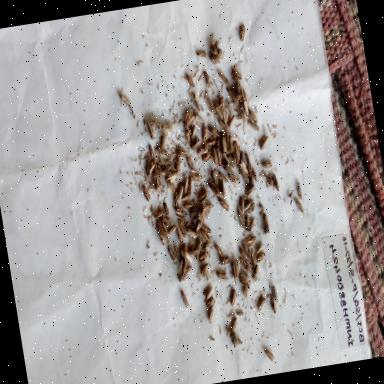pbw: (290, 192, 306, 219), (164, 240, 178, 268), (116, 89, 133, 112), (227, 330, 245, 351), (154, 216, 169, 241), (259, 342, 276, 364), (200, 196, 216, 219), (152, 221, 166, 246), (196, 216, 213, 236), (144, 117, 157, 143), (268, 172, 282, 196), (214, 116, 230, 137), (194, 226, 210, 246), (182, 70, 198, 90), (216, 66, 230, 88), (254, 294, 268, 316), (237, 20, 251, 42), (233, 104, 247, 126), (178, 286, 192, 308), (294, 176, 306, 201), (189, 166, 204, 186), (139, 180, 152, 203), (162, 197, 174, 221), (215, 196, 231, 214), (226, 170, 242, 188), (231, 144, 244, 166), (187, 122, 200, 144), (147, 112, 161, 132), (158, 130, 172, 150), (192, 214, 206, 234), (270, 281, 282, 304), (204, 94, 216, 116), (200, 67, 212, 89), (234, 208, 246, 230), (182, 104, 194, 126), (190, 90, 202, 112), (260, 209, 270, 235), (183, 152, 196, 172), (228, 254, 238, 280), (145, 158, 158, 178), (193, 48, 209, 64), (214, 266, 229, 283), (223, 162, 237, 180), (207, 46, 225, 60), (258, 133, 272, 151), (233, 255, 243, 280), (182, 249, 195, 268), (237, 192, 248, 214), (214, 144, 224, 168), (234, 80, 246, 100), (202, 283, 216, 300), (240, 276, 253, 294), (246, 214, 258, 233), (172, 206, 188, 220), (206, 52, 222, 66), (176, 269, 190, 285), (155, 142, 169, 158), (206, 178, 219, 195), (177, 217, 187, 239), (240, 254, 250, 276), (146, 142, 157, 162), (165, 174, 176, 194), (267, 292, 278, 312), (248, 246, 258, 268), (239, 166, 250, 186), (250, 164, 262, 182), (246, 104, 258, 122), (226, 112, 238, 130), (160, 120, 174, 135), (192, 112, 206, 127), (244, 150, 254, 171), (230, 64, 243, 80), (218, 252, 231, 268), (244, 182, 257, 198), (175, 144, 188, 160), (262, 172, 274, 189), (247, 115, 259, 132), (228, 286, 238, 306), (240, 244, 250, 264), (170, 187, 180, 207), (251, 262, 261, 282), (210, 168, 220, 188), (237, 158, 248, 176), (213, 102, 224, 120), (197, 248, 211, 262), (244, 234, 258, 248), (260, 156, 274, 170), (150, 205, 164, 219), (188, 137, 202, 151), (160, 160, 173, 175), (172, 156, 184, 172), (218, 168, 230, 184), (208, 124, 220, 140), (179, 256, 191, 272), (225, 307, 237, 323), (166, 221, 178, 237), (226, 88, 238, 104), (204, 294, 216, 310), (178, 191, 194, 203), (240, 97, 250, 116), (174, 224, 184, 243), (200, 124, 210, 143), (173, 242, 182, 263), (213, 241, 224, 258), (185, 228, 198, 242), (197, 187, 210, 201), (187, 244, 200, 258), (180, 263, 194, 276), (220, 136, 230, 154), (183, 126, 192, 146), (198, 260, 210, 275), (182, 176, 192, 194), (218, 92, 228, 110), (242, 239, 253, 255), (229, 315, 240, 331), (222, 108, 231, 127), (243, 213, 252, 232), (242, 198, 254, 212), (256, 248, 268, 262), (200, 153, 214, 165), (240, 270, 252, 284), (166, 172, 180, 184), (204, 134, 216, 148), (178, 245, 187, 263), (231, 138, 240, 156), (176, 184, 186, 200), (220, 176, 228, 196), (211, 146, 219, 166), (202, 266, 212, 282), (188, 206, 199, 220), (202, 236, 212, 251), (195, 144, 209, 154), (152, 160, 162, 174), (220, 150, 229, 164), (183, 202, 194, 213), (255, 242, 265, 254), (230, 132, 240, 144), (235, 308, 245, 320), (242, 284, 249, 300)
